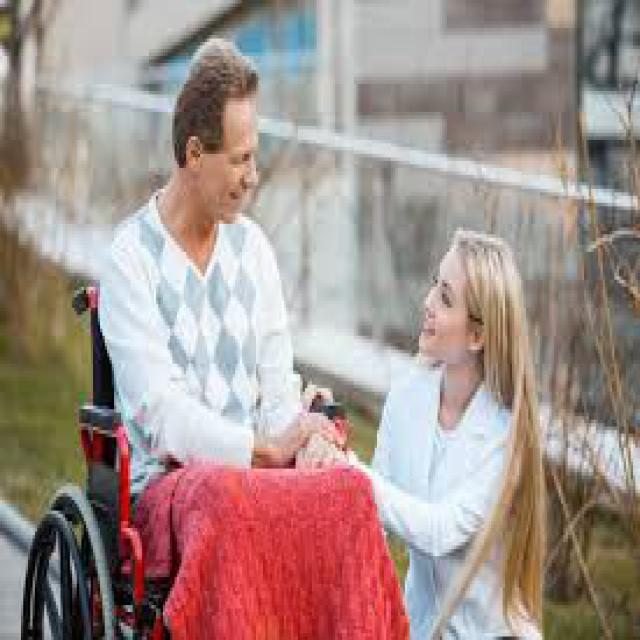wheelchairs: (11, 279, 352, 636)
